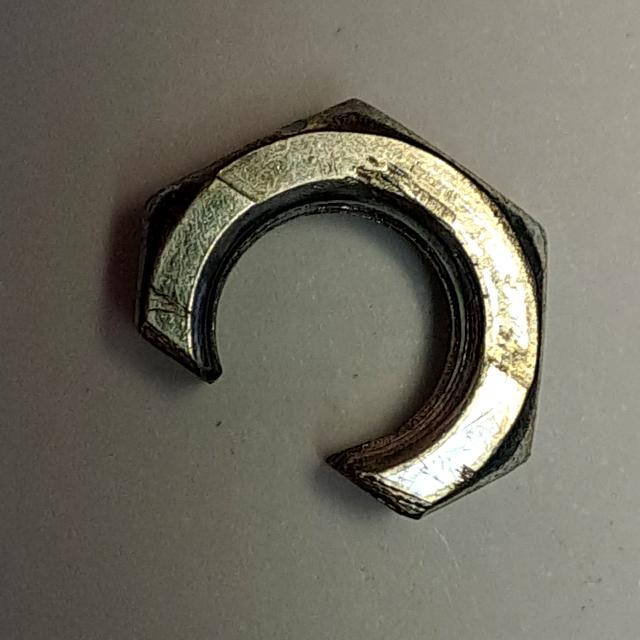Fracture: (124, 89, 556, 534)
